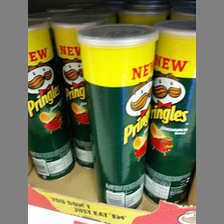chips: (76, 22, 159, 208), (144, 21, 195, 207), (28, 20, 75, 180)
